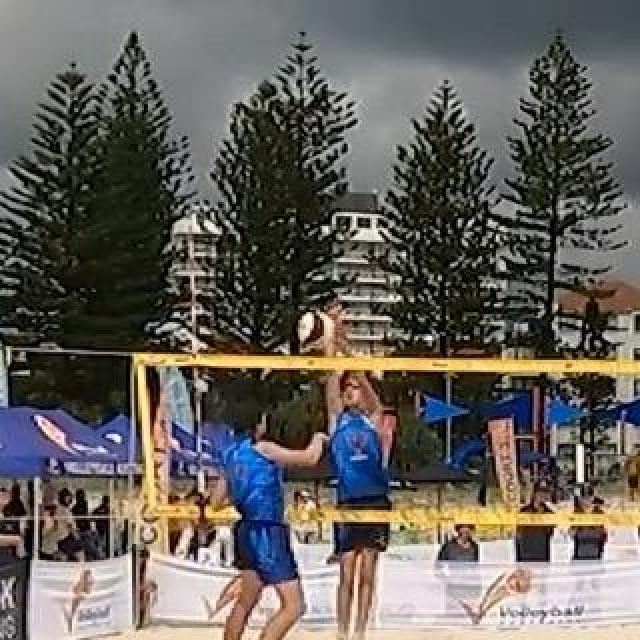volleyball: (298, 311, 336, 349)
